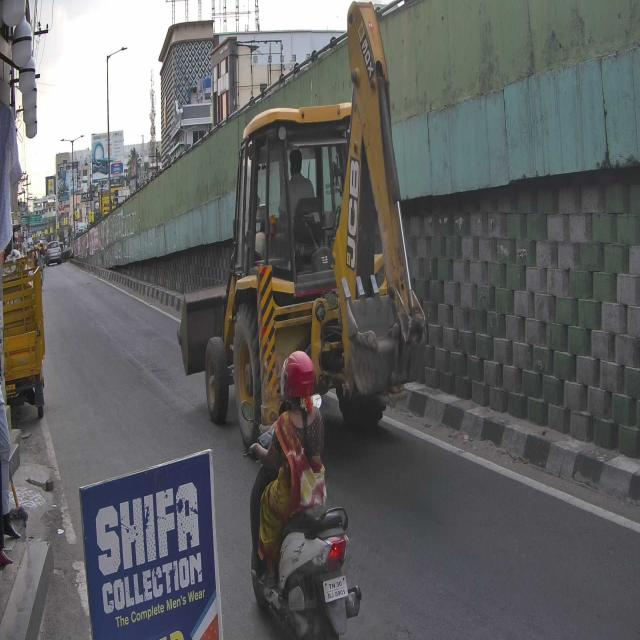single_rider: (240, 347, 364, 640)
